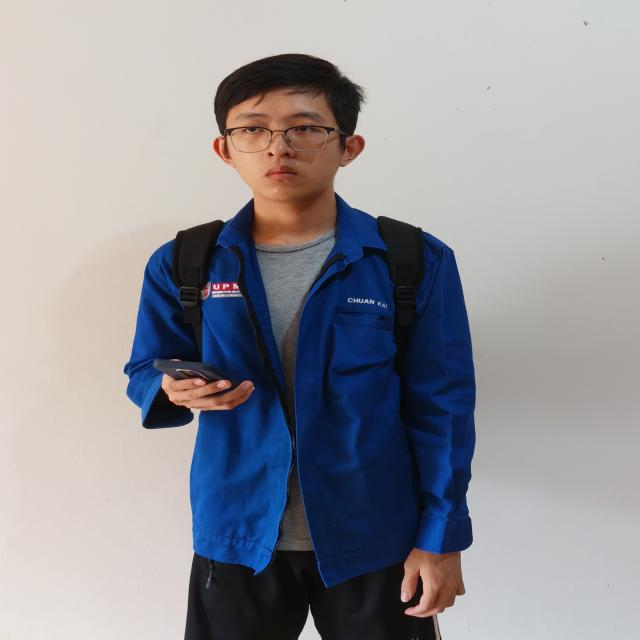person_with_labcoat: (125, 54, 475, 640)
